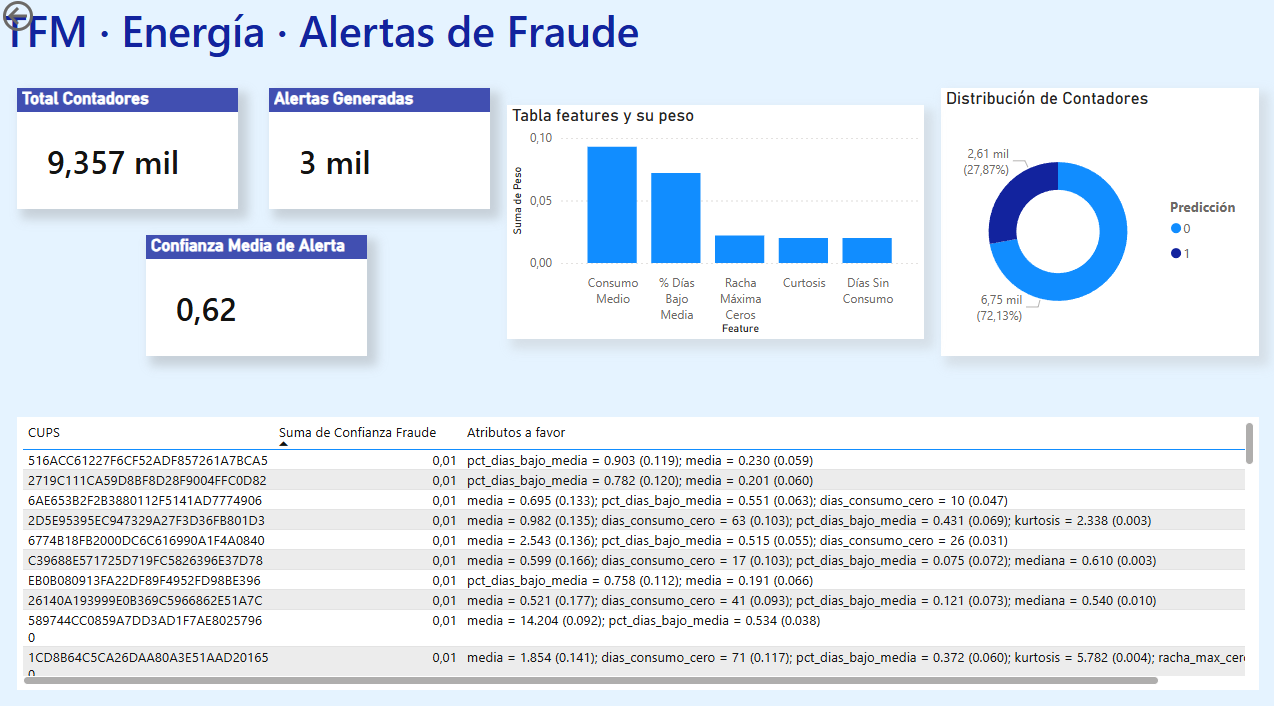

The page's visual inventory and layout, read from the dashboard file:
{"tool":"powerbi","page":{"name":"2. Alertas Fraude","canvas":[1280,720],"ordinal":1},"visuals":[{"type":"textbox","box":[0,0,825.8,75.9],"z":0},{"type":"cardVisual","title":"Total Contadores","fields":{"Data":["CountNonNull(predicciones_clasificador.CUPS)"]},"box":[19,92,221,121],"z":1000},{"type":"cardVisual","title":"Alertas Generadas","fields":{"Data":["predicciones_clasificador.Recuento de CUPS para 1"]},"box":[271,92,221,121],"z":2000},{"type":"actionButton","box":[0,0,100,40],"z":3000},{"type":"cardVisual","title":"Confianza Media de Alerta","fields":{"Data":["Avg(predicciones_clasificador.Confianza Fraude)"]},"box":[148,239,221,121],"z":4000},{"type":"donutChart","title":"Distribución de Contadores","fields":{"Y":["CountNonNull(predicciones_clasificador.CUPS)"],"Category":["predicciones_clasificador.Predicción"]},"box":[943,92,318,268],"z":5000},{"type":"tableEx","fields":{"Values":["predicciones_clasificador.CUPS","Sum(predicciones_clasificador.Confianza Fraude)","predicciones_clasificador.Atributos a favor"]},"box":[19,421,1242,273],"z":6000},{"type":"columnChart","title":"Tabla features y su peso","fields":{"Category":["Features y peso.Feature"],"Y":["Sum(Features y peso.Peso)"]},"box":[509,109,417,234],"z":7000}]}

Visuals, with their boxes in screenshot pixels (x1, y1, x2, y2), scaled from the page's 1280x720 canvas onto the 1274x706 screenshot:
textbox: pyautogui.locateOnScreen(0, 0, 822, 74)
"Total Contadores" cardVisual: pyautogui.locateOnScreen(19, 90, 239, 209)
"Alertas Generadas" cardVisual: pyautogui.locateOnScreen(270, 90, 490, 209)
actionButton: pyautogui.locateOnScreen(0, 0, 100, 39)
"Confianza Media de Alerta" cardVisual: pyautogui.locateOnScreen(147, 234, 367, 353)
"Distribución de Contadores" donutChart: pyautogui.locateOnScreen(939, 90, 1255, 353)
tableEx - predicciones_clasificador.CUPS x Sum(predicciones_clasificador.Confianza Fraude): pyautogui.locateOnScreen(19, 413, 1255, 681)
"Tabla features y su peso" columnChart: pyautogui.locateOnScreen(507, 107, 922, 336)
